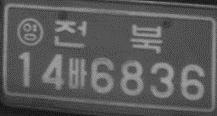1: (14, 50, 37, 87)
3: (149, 60, 174, 98)
4: (41, 53, 64, 90)
6: (89, 56, 114, 94), (179, 63, 204, 101)
8: (119, 59, 145, 96)
바: (67, 56, 87, 89)
영: (15, 17, 43, 47)
전북_D: (53, 18, 162, 53)
